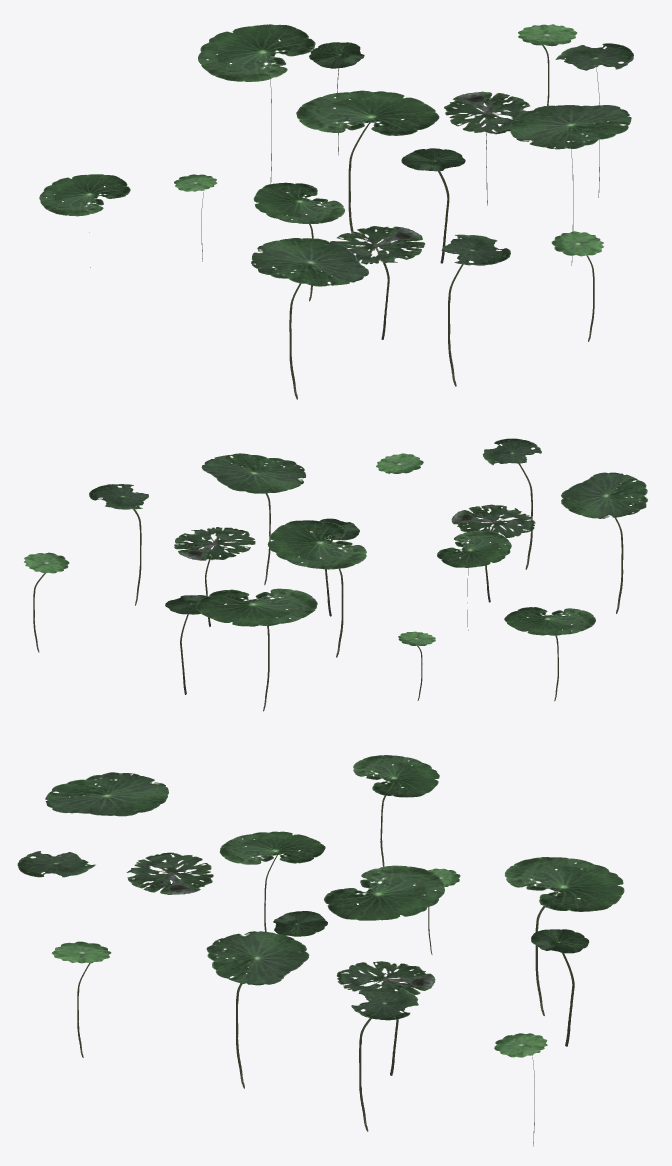
File: arden_forest_water_plants_01.fbx
The picture shows the model from 3 angles, top to bottom: view 1: azimuth 30°, elevation 25°; view 2: azimuth 150°, elevation 25°; view 3: azimuth 270°, elevation 25°; orthographic projection. The views are drawn at different scales.
Parts seen in each view (by area): view 1: arden_forest_water_plants_01; view 2: arden_forest_water_plants_01; view 3: arden_forest_water_plants_01.
Boxes of the visible parts, box(x1,y1,x2,y2) form: arden_forest_water_plants_01: box(39, 24, 633, 399); arden_forest_water_plants_01: box(24, 438, 647, 711); arden_forest_water_plants_01: box(17, 755, 624, 1146).
Size of the model in its own units: 151 by 31.69 by 136.
